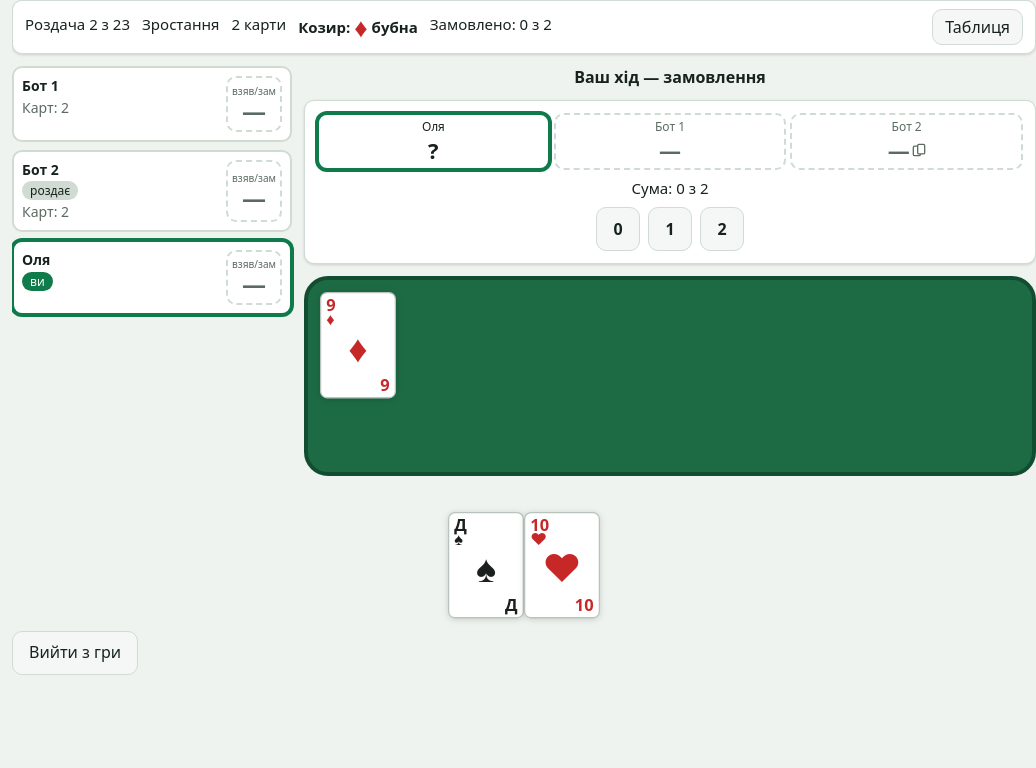
it: замовлення › R-4.3: після замовлення кнопки вимкнені, доки сервер не надіслав новий стан
The image size is (1036, 768).
Click the button "0" at (618, 229), box [596, 207, 640, 251]
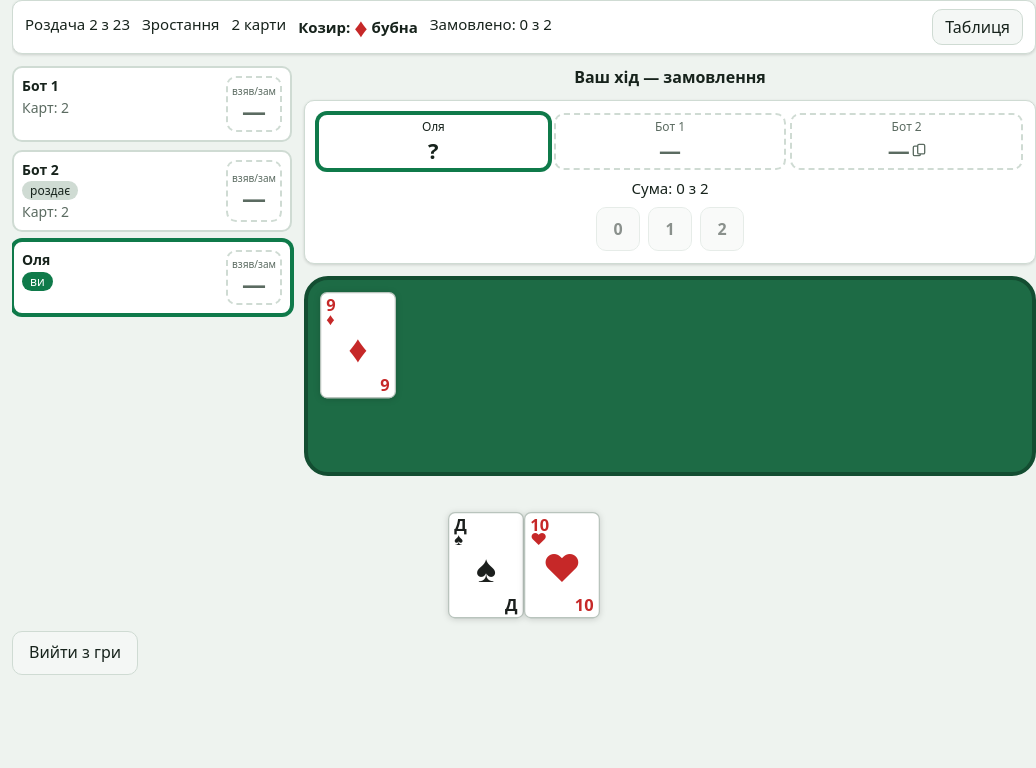
Expected: the button "0" is disabled, [596, 207, 640, 251]
Expected: the button "1" is disabled, [648, 207, 692, 251]
Expected: the button "2" is disabled, [700, 207, 744, 251]
